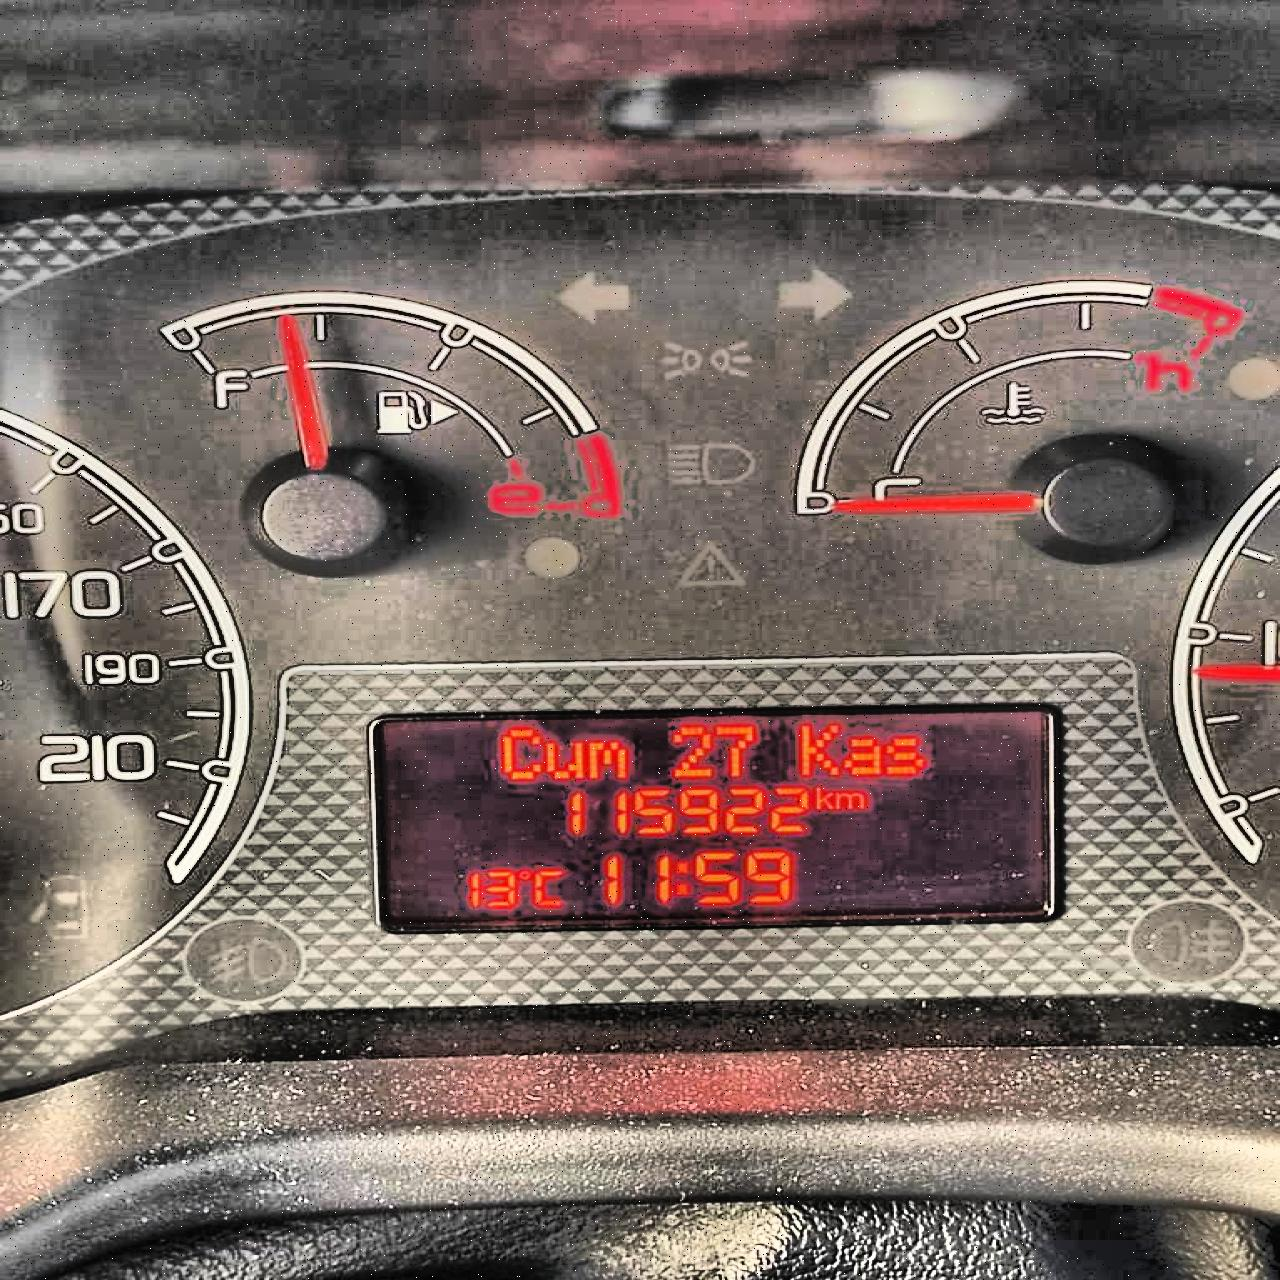1: (653, 855, 669, 904), (604, 855, 619, 904), (567, 789, 584, 835), (613, 790, 627, 835), (467, 870, 479, 907)
2: (670, 723, 712, 777), (767, 785, 809, 832), (722, 787, 764, 833)
3: (483, 869, 515, 907)
5: (692, 850, 738, 904), (632, 788, 674, 835)
7: (714, 723, 754, 777)
9: (742, 849, 790, 904), (676, 787, 719, 833)
X: (499, 726, 542, 779), (797, 723, 840, 775), (883, 735, 926, 775), (586, 738, 626, 779), (840, 736, 880, 775), (543, 740, 581, 779), (530, 869, 565, 906), (835, 791, 864, 809), (674, 859, 688, 896), (813, 787, 835, 810)
odometer: (366, 701, 1058, 934)
